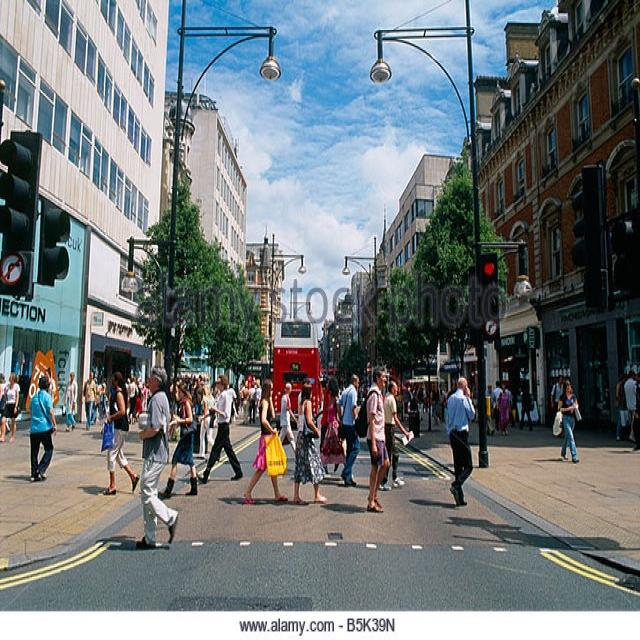body: (85, 369, 494, 434), (135, 365, 180, 551), (239, 378, 289, 505), (354, 366, 391, 516), (195, 375, 245, 485), (100, 371, 141, 497), (155, 381, 197, 500), (291, 384, 328, 507), (444, 375, 476, 508), (382, 380, 413, 490), (27, 375, 57, 484), (335, 372, 360, 487), (317, 385, 348, 477), (552, 379, 583, 464), (277, 382, 299, 456), (0, 371, 21, 445), (196, 384, 216, 461), (624, 370, 639, 446), (615, 370, 630, 442), (319, 378, 332, 454), (63, 371, 78, 434), (82, 371, 97, 432), (496, 382, 512, 437), (549, 377, 565, 431), (518, 378, 534, 431), (496, 384, 512, 435), (0, 372, 11, 434), (631, 372, 639, 452), (44, 368, 58, 405), (246, 382, 257, 426), (483, 384, 497, 415), (491, 379, 502, 408)
